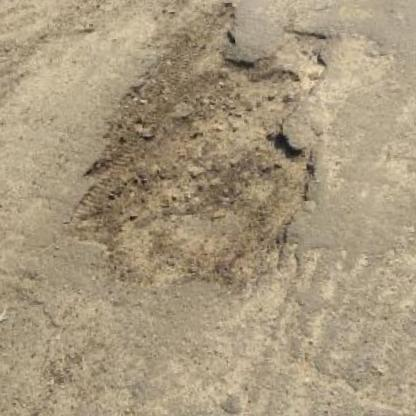pothole: (84, 32, 337, 292)
